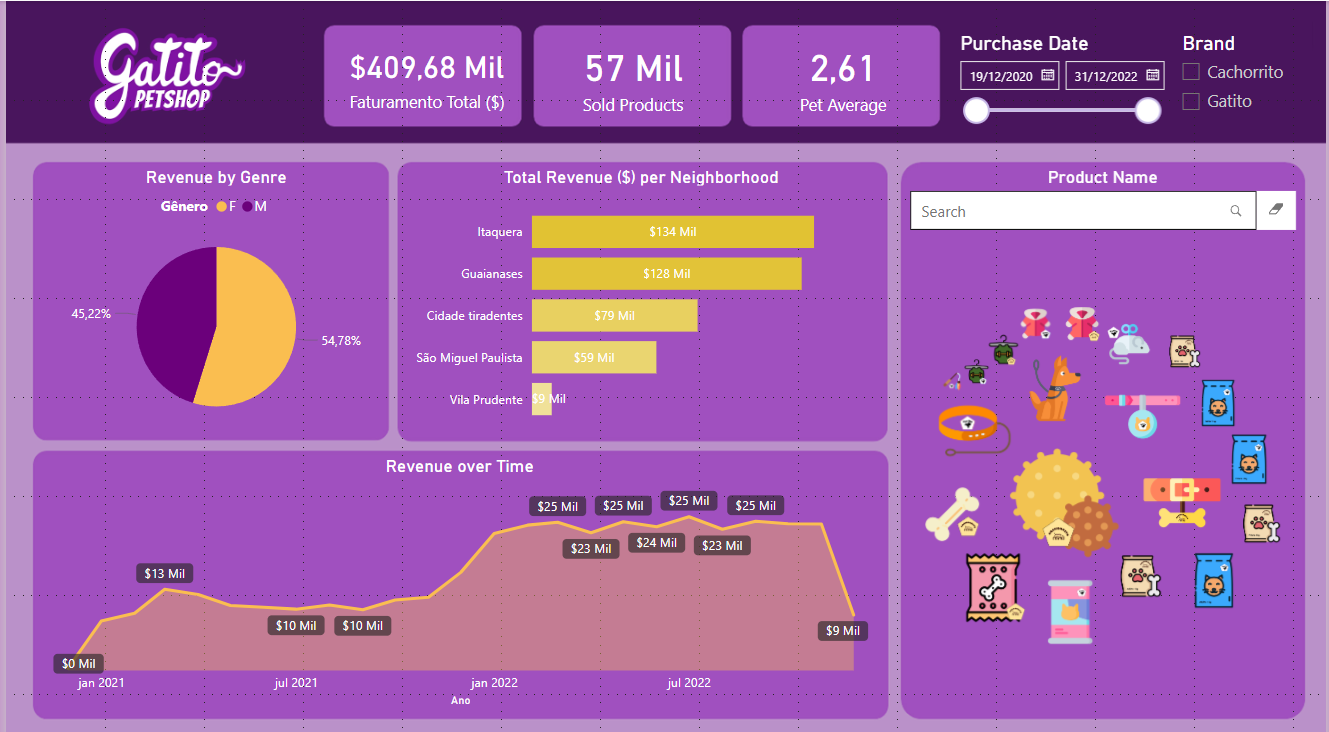

The dashboard page shown, as its layout file describes it:
{"tool":"powerbi","page":{"name":"Página 1","canvas":[1280,720],"ordinal":0},"visuals":[{"type":"card","fields":{"Values":["Vendas.Faturamento Total em Dolar"]},"box":[312,24,192,96],"z":0},{"type":"card","fields":{"Values":["Avg(Clientes.Pets)"]},"box":[712,24,200,96],"z":1000},{"type":"card","fields":{"Values":["Sum(Vendas.Quantidade)"]},"box":[512,24,192,96],"z":2000},{"type":"pieChart","title":"Revenue by Genre","fields":{"Category":["Clientes.Gênero"],"Y":["Vendas.Faturamento Total em Dolar"]},"box":[32,160,344,264],"z":3000},{"type":"clusteredBarChart","title":" Total Revenue ($) per Neighborhood","fields":{"Category":["Clientes.Bairro"],"Y":["Vendas.Faturamento Total em Dolar"]},"box":[384,160,464,264],"z":4000},{"type":"areaChart","title":"Revenue over Time","fields":{"Category":["Vendas.Data de compra.Variation.Hierarquia de datas.Ano","Vendas.Data de compra.Variation.Hierarquia de datas.Trimestre","Vendas.Data de compra.Variation.Hierarquia de datas.Mês","Vendas.Data de compra.Variation.Hierarquia de datas.Dia"],"Y":["Vendas.Faturamento Total em Dolar"]},"box":[32,440,816,248],"z":5000},{"type":"ImageGrid_FC5183B9_926C_45E0_B5F7_0CE9EAF1DA9B","fields":{"ImageURL":["Produtos.Url img"]},"box":[864,224,400,472],"z":6000},{"type":"textFilter25A4896A83E0487089E2B90C9AE57C8A","fields":{"field":["Produtos.Nome produto"]},"box":[872,160,384,72],"z":7000},{"type":"slicer","fields":{"Values":["Produtos.Marca"]},"box":[1128,24,136,112],"z":8000},{"type":"slicer","fields":{"Values":["Vendas.Data de compra"]},"box":[912,24,216,184],"z":9000}]}

Visuals, with their boxes in screenshot pixels (x1, y1, x2, y2), scaled from the page's 1280x720 canvas onto the 1329x732 screenshot:
card - Vendas.Faturamento Total em Dolar: (324,24,523,122)
card - Avg(Clientes.Pets): (739,24,947,122)
card - Sum(Vendas.Quantidade): (532,24,731,122)
"Revenue by Genre" pieChart: (33,163,390,431)
" Total Revenue ($) per Neighborhood" clusteredBarChart: (399,163,880,431)
"Revenue over Time" areaChart: (33,447,880,699)
ImageGrid_FC5183B9_926C_45E0_B5F7_0CE9EAF1DA9B - Produtos.Url img: (897,228,1312,708)
textFilter25A4896A83E0487089E2B90C9AE57C8A - Produtos.Nome produto: (905,163,1304,236)
slicer - Produtos.Marca: (1171,24,1312,138)
slicer - Vendas.Data de compra: (947,24,1171,211)
